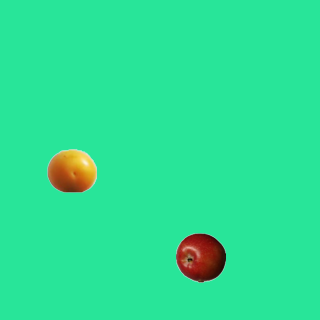Apple Braeburn: (175, 232, 225, 282)
Cherry Wax Yellow: (46, 145, 96, 195)
